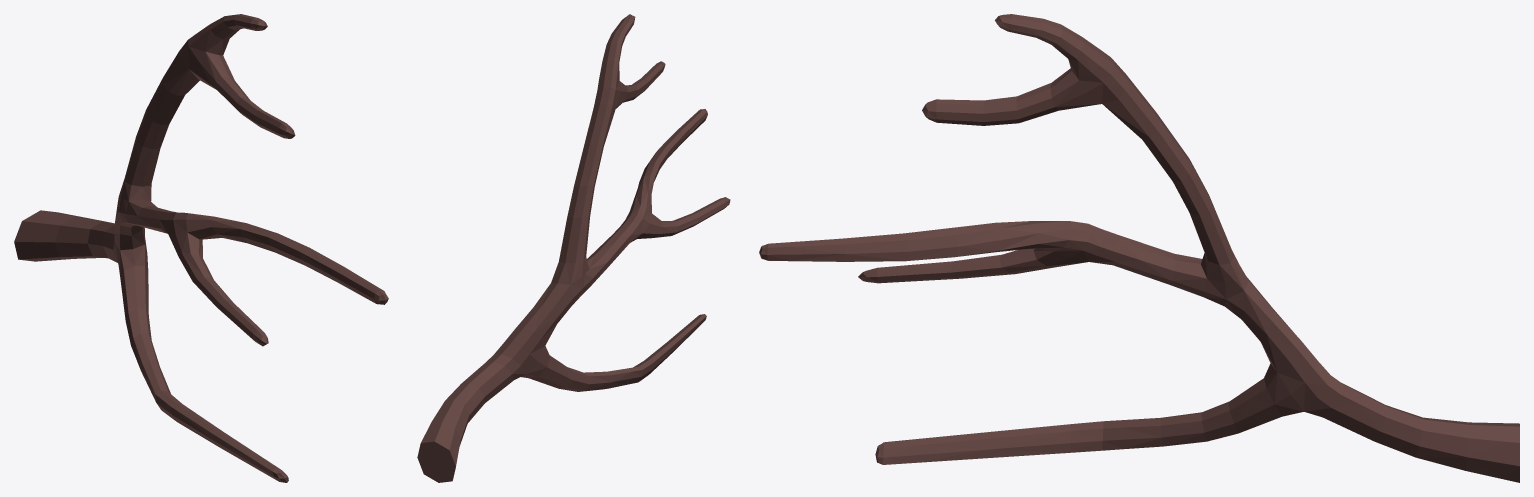
The model's file is tree-bare-willow-1-30-ft.obj.
3 renders of one model, left to right at view 1: azimuth 30°, elevation 25°; view 2: azimuth 150°, elevation 25°; view 3: azimuth 270°, elevation 25°, orthographic. The views are drawn at different scales.
Parts seen in each view (by area): view 1: tree-bare-willow-1-30-ft; view 2: tree-bare-willow-1-30-ft; view 3: tree-bare-willow-1-30-ft.
Boxes of the visible parts, x1=… form: tree-bare-willow-1-30-ft: x1=14, y1=14, x2=388, y2=482; tree-bare-willow-1-30-ft: x1=417, y1=14, x2=730, y2=482; tree-bare-willow-1-30-ft: x1=759, y1=14, x2=1519, y2=482.
Size of the model in its own units: 66.75 by 243 by 360.
